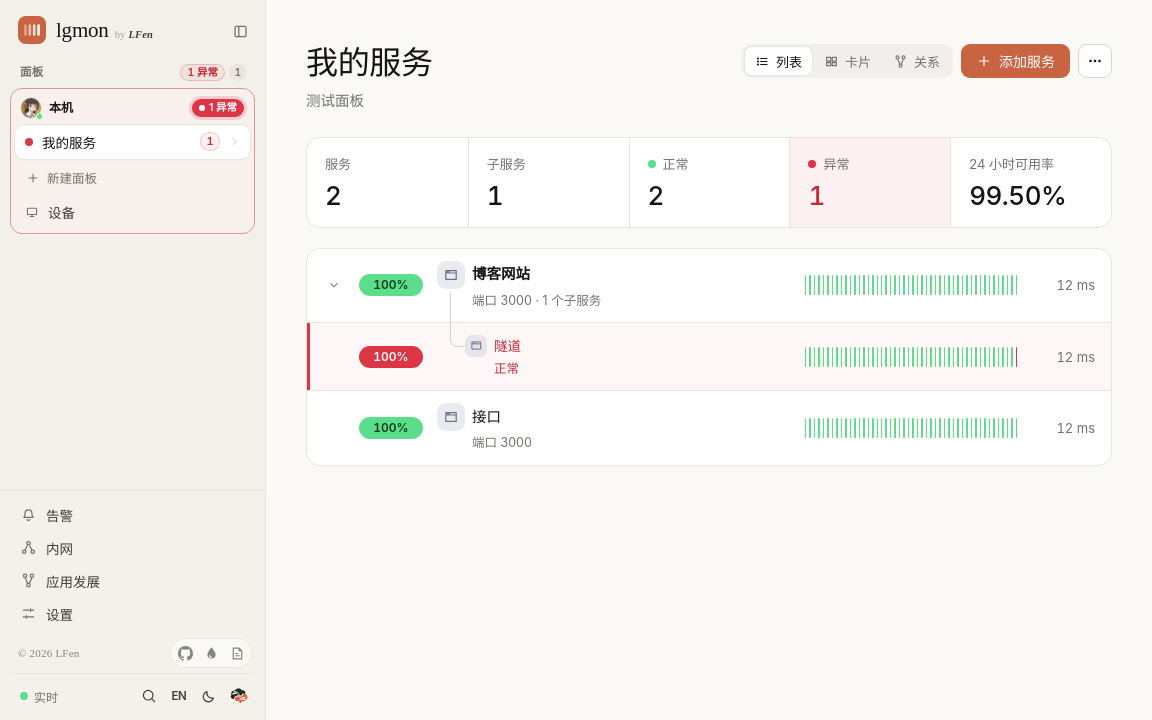
Test case: switches to cards and remembers the choice for this board
Expected: the list named "服务列表" is shown, [306,248,1112,466]
What coordinates should you click on to do the following:
click the button "卡片"
I would click on:
 (848, 61)
Its box is [814,47,881,75].
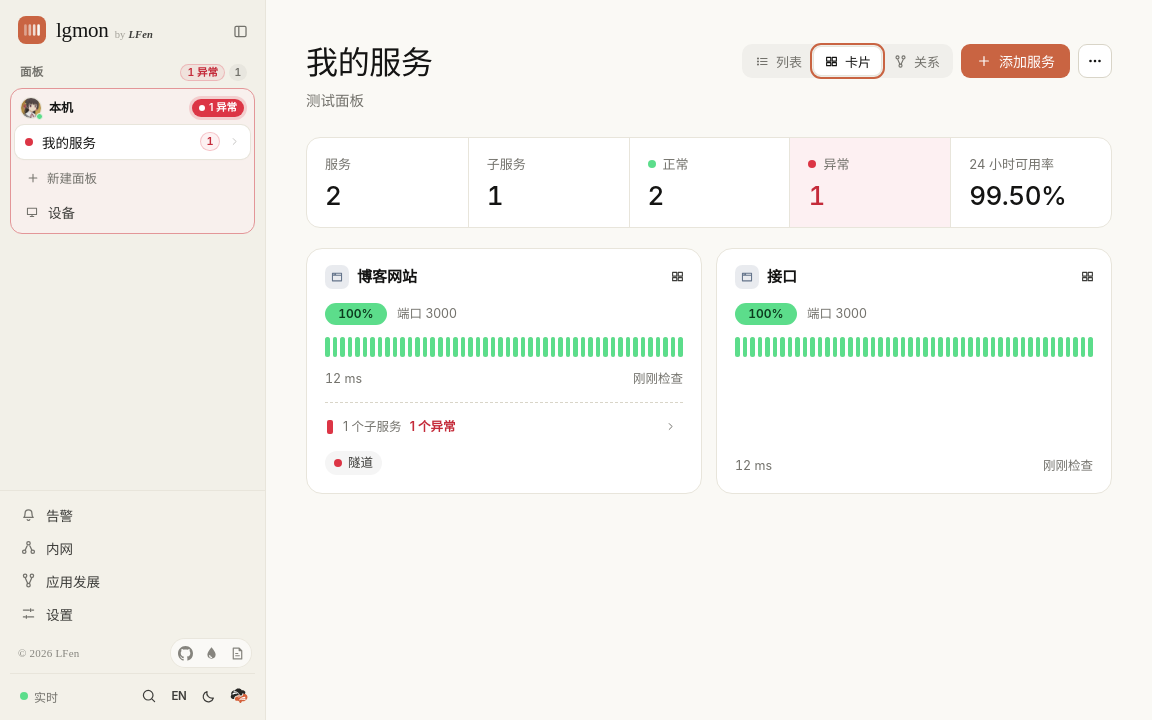
Expected: the element named "子服务" reads "隧道", [325,451,382,475]
Expected: the number of list items is 2, [306,248,702,494]; [716,248,1112,494]
